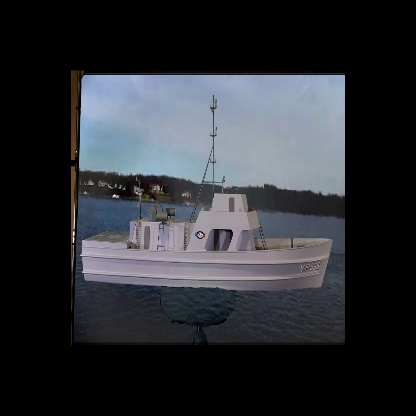YP689: (79, 92, 333, 291)
